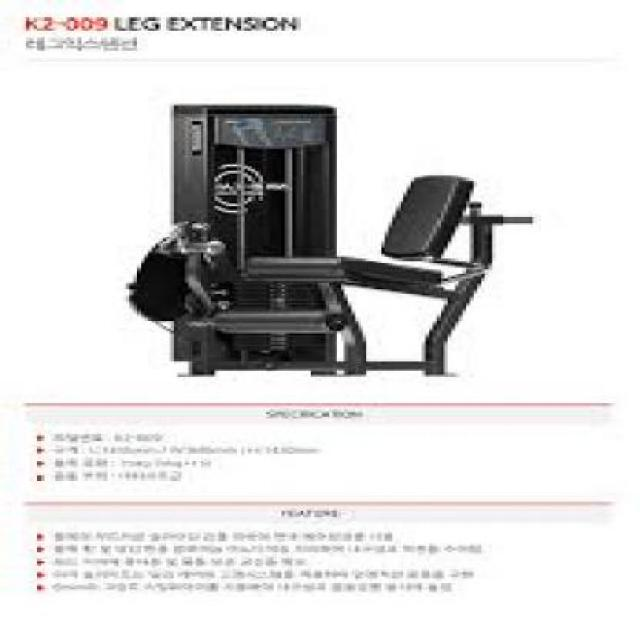leg extension: (105, 91, 564, 394)
